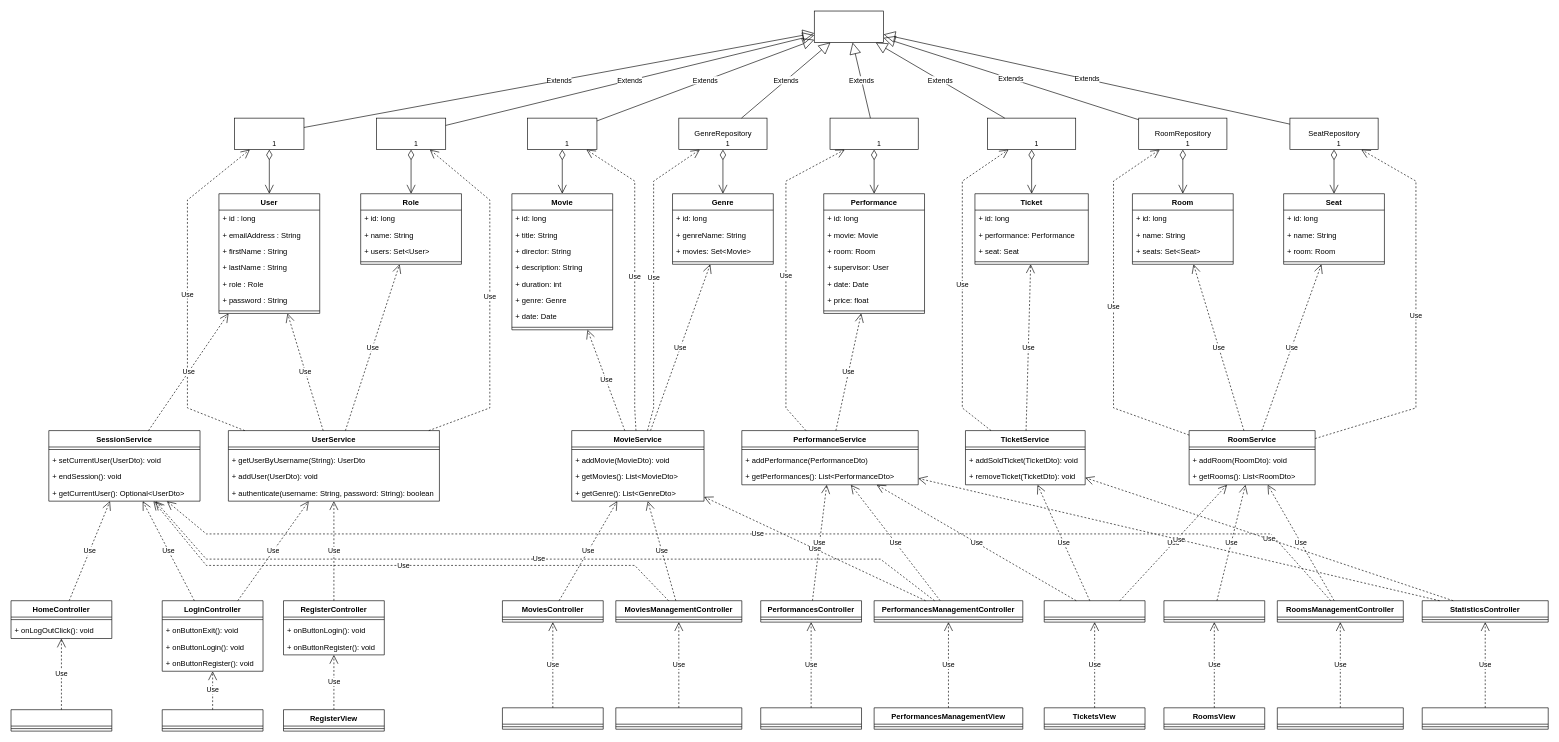
This 1559x742 diagram has some shape labels left out. Each missing label, with the centre of its shape:
HomeView: the point at 61,720
LoginView: the point at 212,720
MovieRepository: the point at 562,133
MoviesManagementView: the point at 678,718
MoviesView: the point at 552,718
PerformanceRepository: the point at 873,133
PerformancesView: the point at 811,718
RoleRepository: the point at 411,133
RoomsController: the point at 1214,611
RoomsManagementView: the point at 1340,718
StatisticsView: the point at 1485,718
TicketRepository: the point at 1031,133
TicketsController: the point at 1094,611
UserRepository: the point at 269,133
«interface» Repository: the point at 849,26
